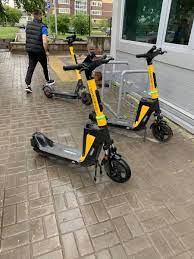kick_board: (31, 54, 131, 183)
kick_body: (109, 117, 138, 128), (52, 90, 77, 98)
kick_handler: (64, 53, 114, 73), (136, 45, 167, 63), (63, 36, 86, 45)
kick_neck: (88, 82, 111, 141), (148, 66, 162, 113)
kick_wheel: (102, 156, 131, 183), (31, 133, 47, 155), (79, 91, 91, 104), (43, 85, 54, 98)
